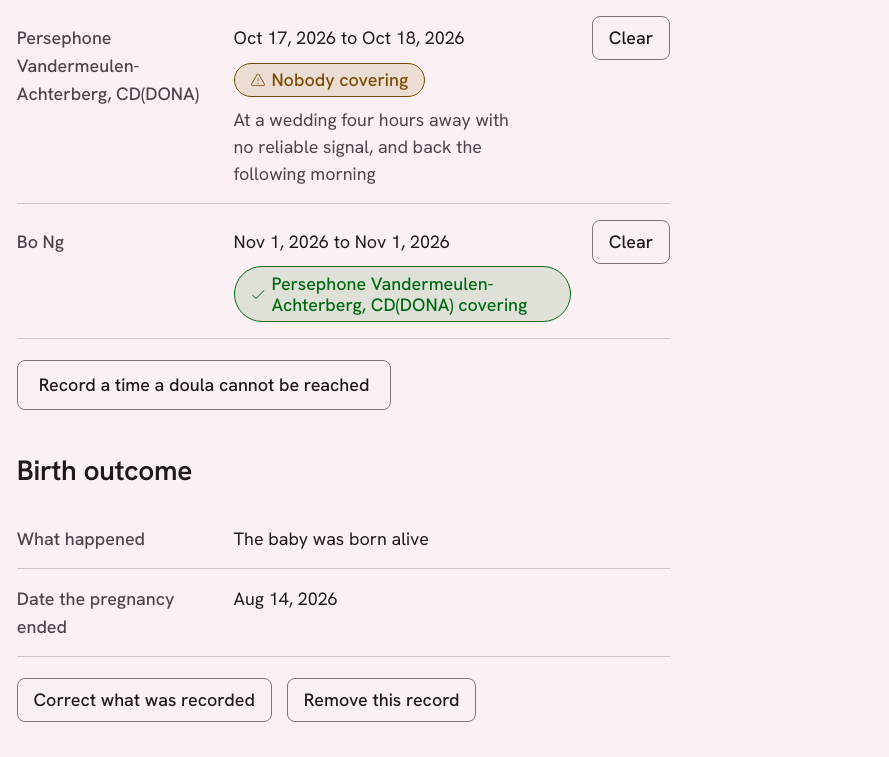
Test: the on-call section on a birth (#1093) › Doula who cannot be reached › opens with nobody chosen
The width and height of the screenshot is (889, 757).
(page scrolled)
Click the button "Record a time a doula cannot be reached". click: (204, 385)
box: [17, 360, 391, 410]
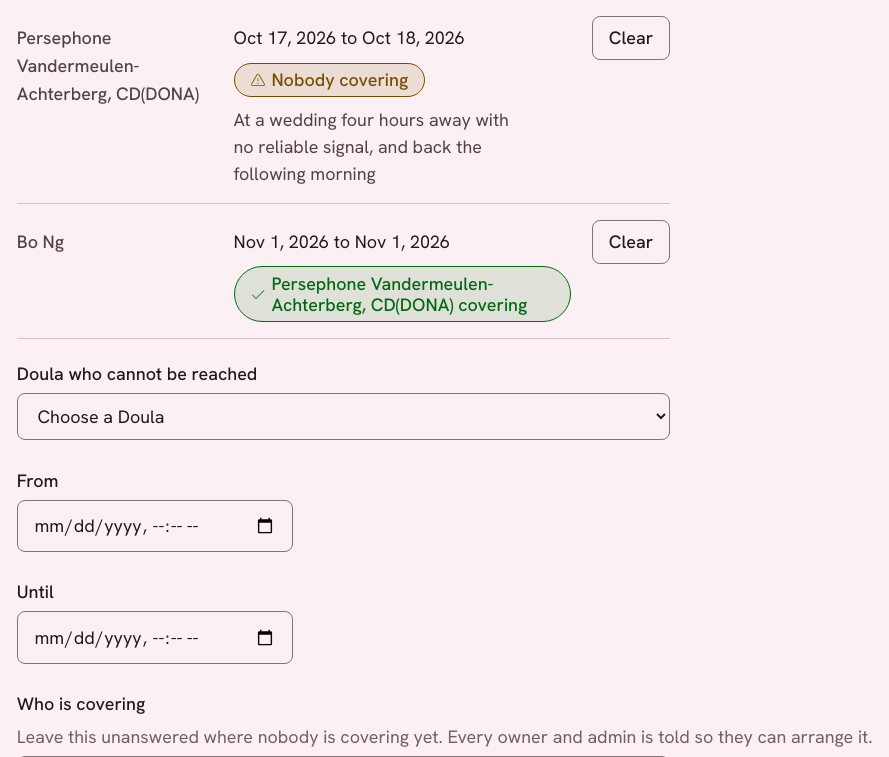
expect the dropdown labelled "Doula who cannot be reached" shows "Choose a Doula": met, box [17, 392, 670, 440]
